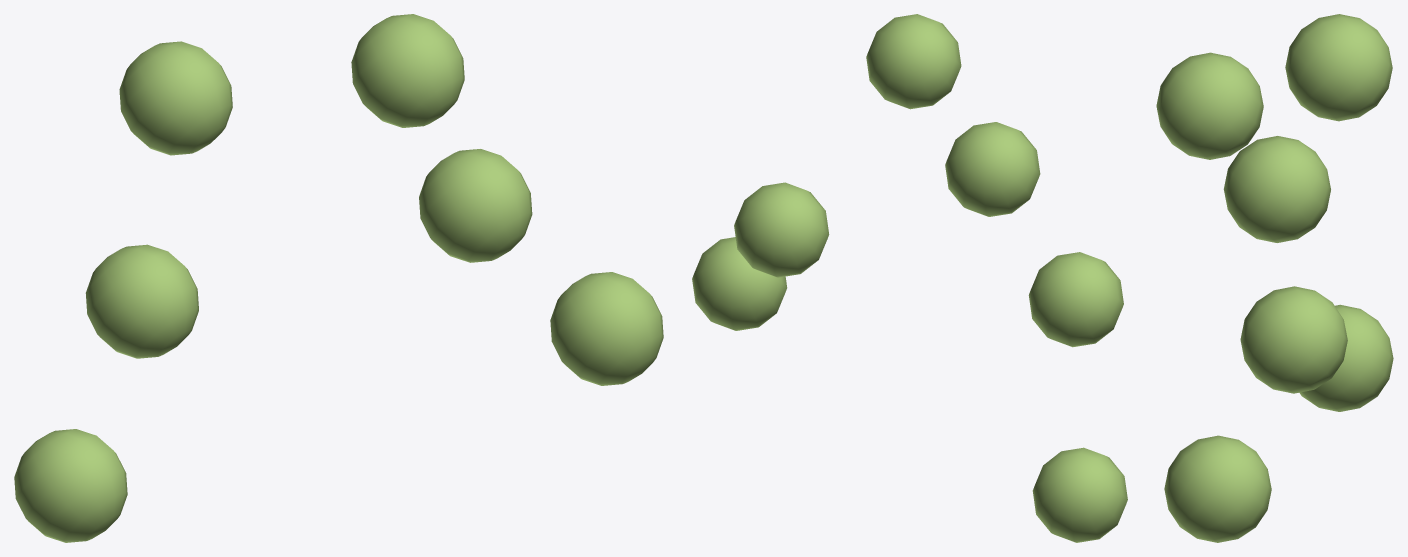
The model's file is medial-common-iliac-nodes.glb.
3 renders of one model, left to right at view 1: azimuth 30°, elevation 25°; view 2: azimuth 150°, elevation 25°; view 3: azimuth 270°, elevation 25°, orthographic. The views are drawn at different scales.
Parts seen in each view (by area): view 1: Medial common iliac nodes; view 2: Medial common iliac nodes; view 3: Medial common iliac nodes.
Boxes of the visible parts, x1,y1,x2,y2 form: Medial common iliac nodes: [14, 14, 663, 542]; Medial common iliac nodes: [692, 14, 1127, 542]; Medial common iliac nodes: [1156, 14, 1393, 542].
Bounding box in the file's own units: 0.0148 × 0.0126 × 0.00574.
